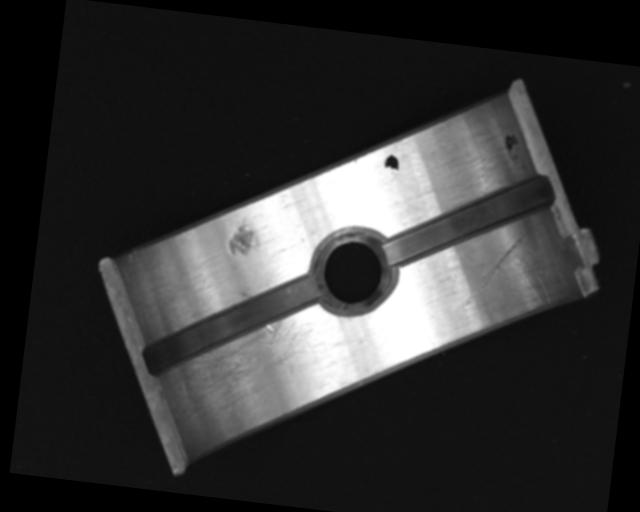blot: (503, 131, 520, 160), (383, 152, 400, 176)
bruise: (226, 215, 258, 258)
gap: (141, 255, 320, 392), (381, 156, 556, 283)
hole: (308, 222, 399, 318)
nick: (460, 226, 525, 317)
scratch: (179, 293, 311, 419)
